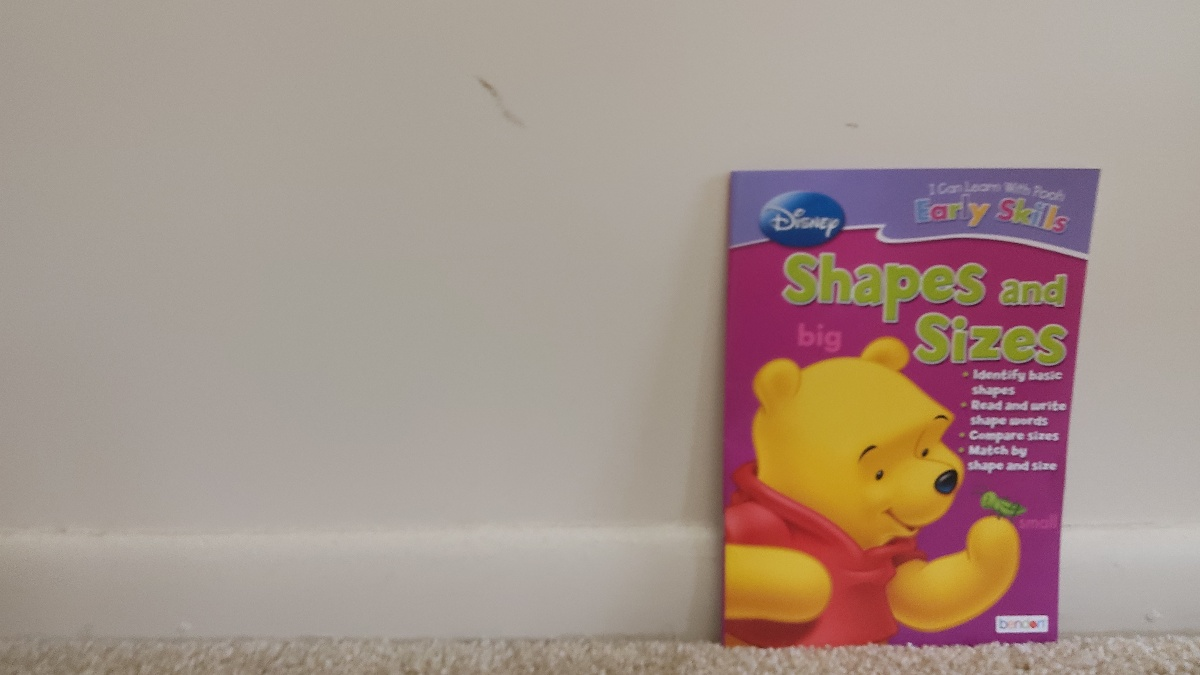book: (733, 173, 1053, 638)
